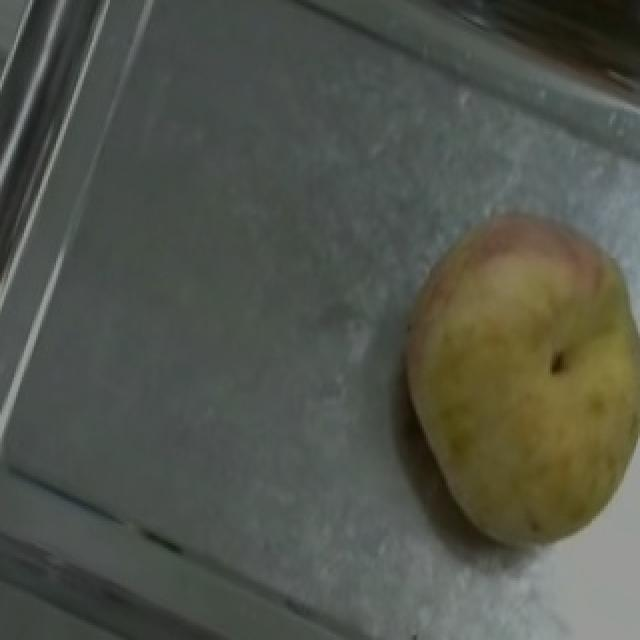Fruit: (354, 171, 640, 543)
